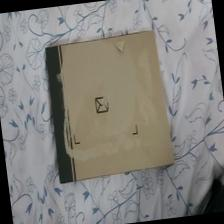Kertas: (45, 31, 172, 182)
